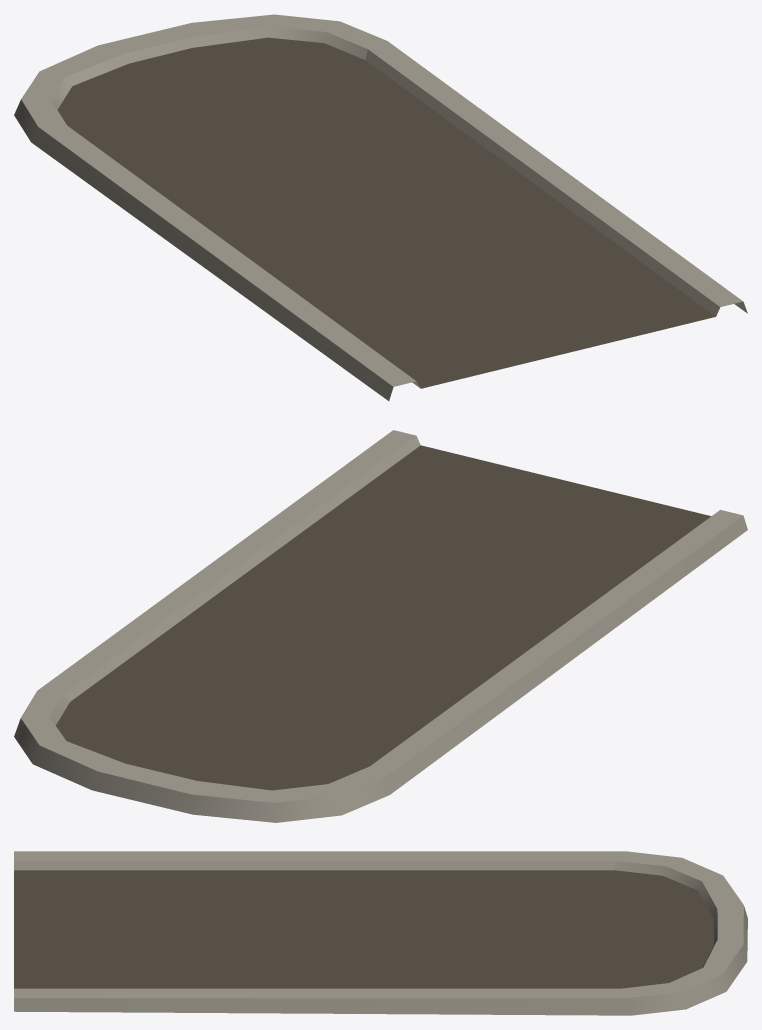
Rendered from ParkRoad_6_B.fbx.
The picture shows the model from 3 angles, top to bottom: view 1: azimuth 30°, elevation 25°; view 2: azimuth 150°, elevation 25°; view 3: azimuth 270°, elevation 25°; orthographic projection. The views are drawn at different scales.
Visible parts, largest first — view 1: ParkRoad_6_B; view 2: ParkRoad_6_B; view 3: ParkRoad_6_B.
Part boxes in pixels (left/top/right/bottom): ParkRoad_6_B: left=14, top=14, right=747, bottom=400; ParkRoad_6_B: left=14, top=430, right=747, bottom=822; ParkRoad_6_B: left=14, top=851, right=747, bottom=1015.
Bounding box in the file's own units: 200 × 9.78 × 411.
